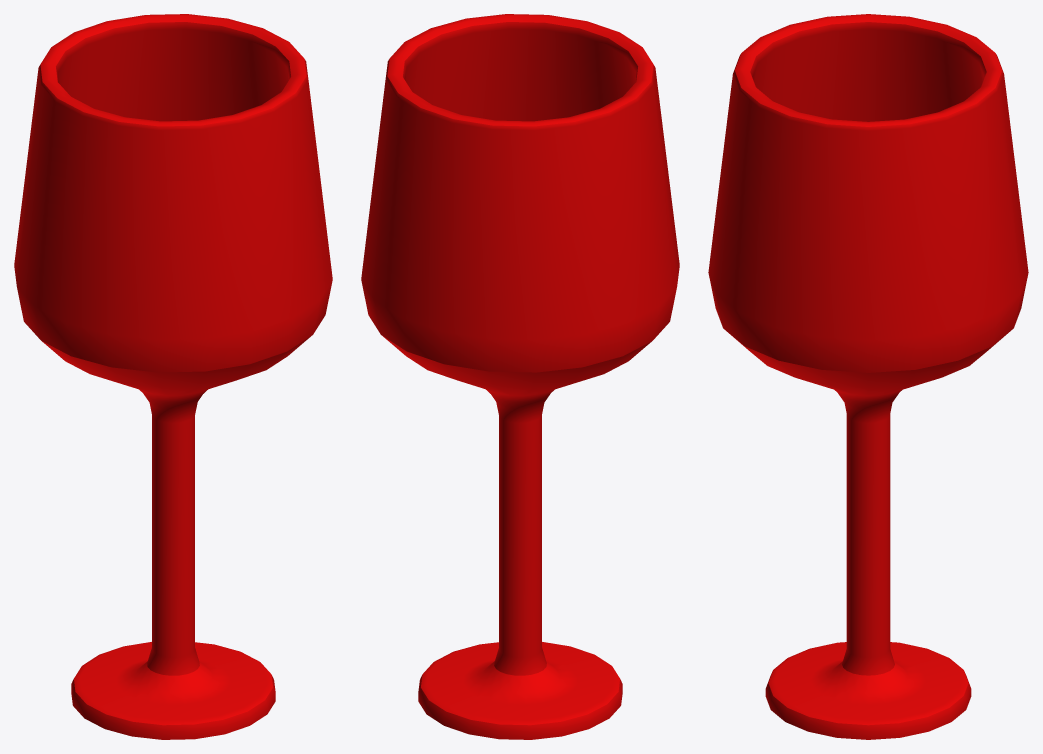
The model's file is SM_Verre_Vin.fbx.
The picture shows the model from 3 angles, left to right: view 1: azimuth 30°, elevation 25°; view 2: azimuth 150°, elevation 25°; view 3: azimuth 270°, elevation 25°; orthographic projection.
Parts seen in each view (by area): view 1: Verre_Vin; view 2: Verre_Vin; view 3: Verre_Vin.
Part boxes in pixels (x1=…): Verre_Vin: x1=14, y1=14, x2=332, y2=739; Verre_Vin: x1=361, y1=14, x2=679, y2=739; Verre_Vin: x1=708, y1=14, x2=1028, y2=739.
Bounding box in the file's own units: 1.8 × 3.9 × 1.8.
